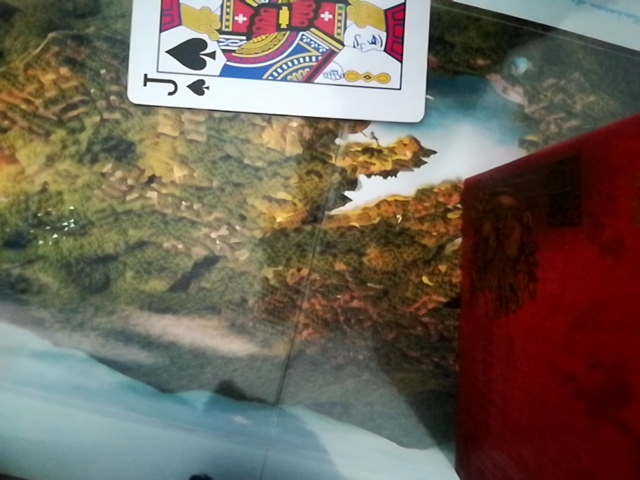ht j: (130, 3, 435, 122)
